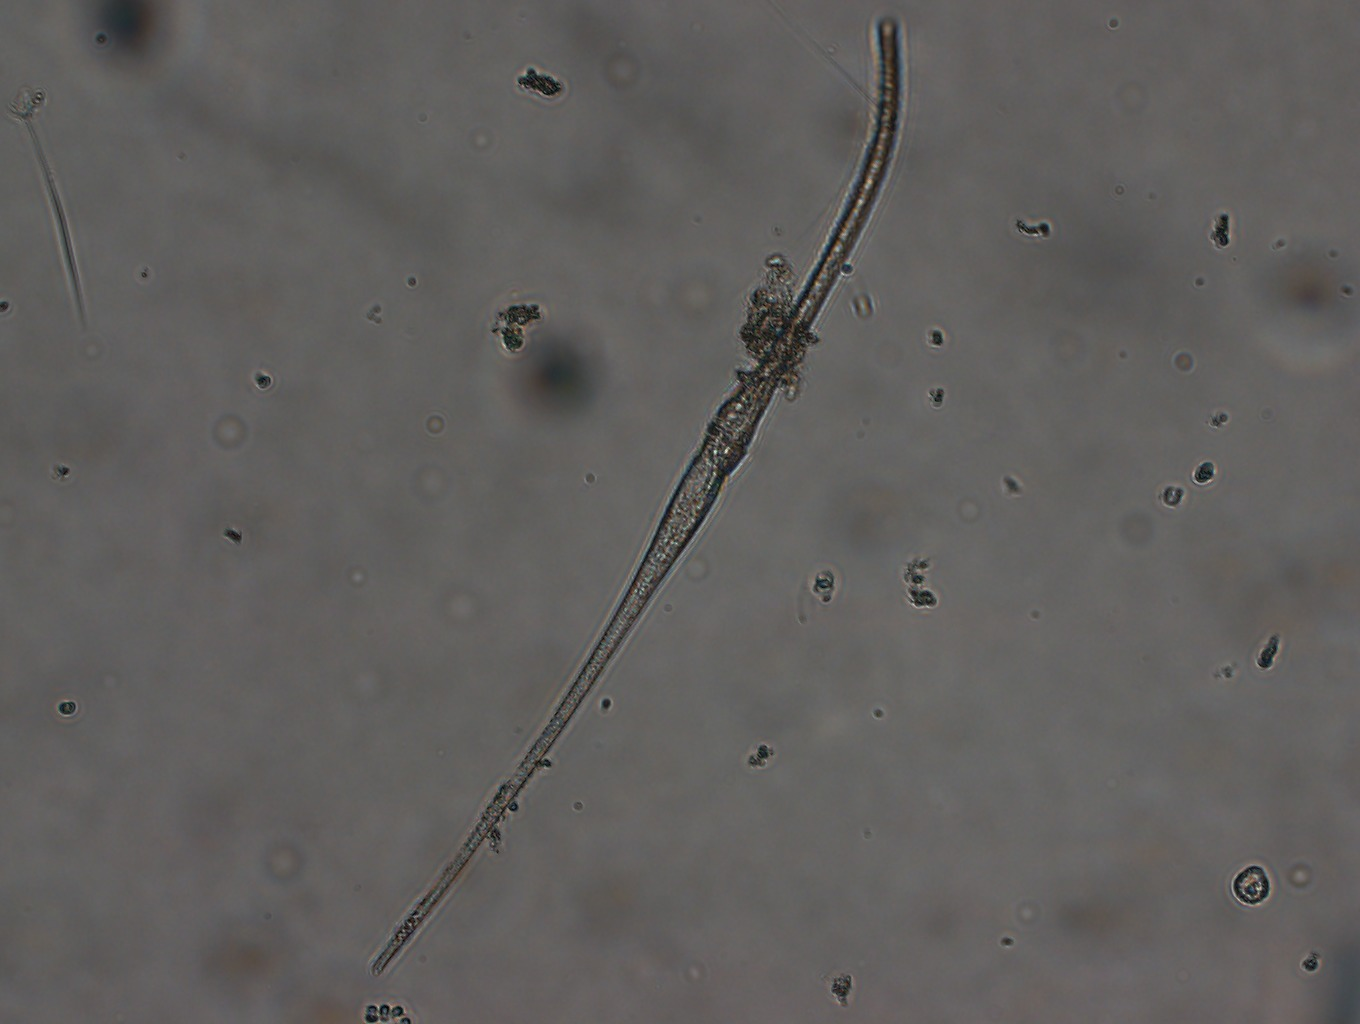ceratium fusus: (356, 1, 918, 985)
